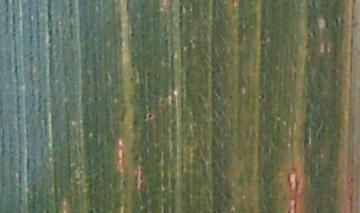tarspot: (144, 110, 155, 123)
